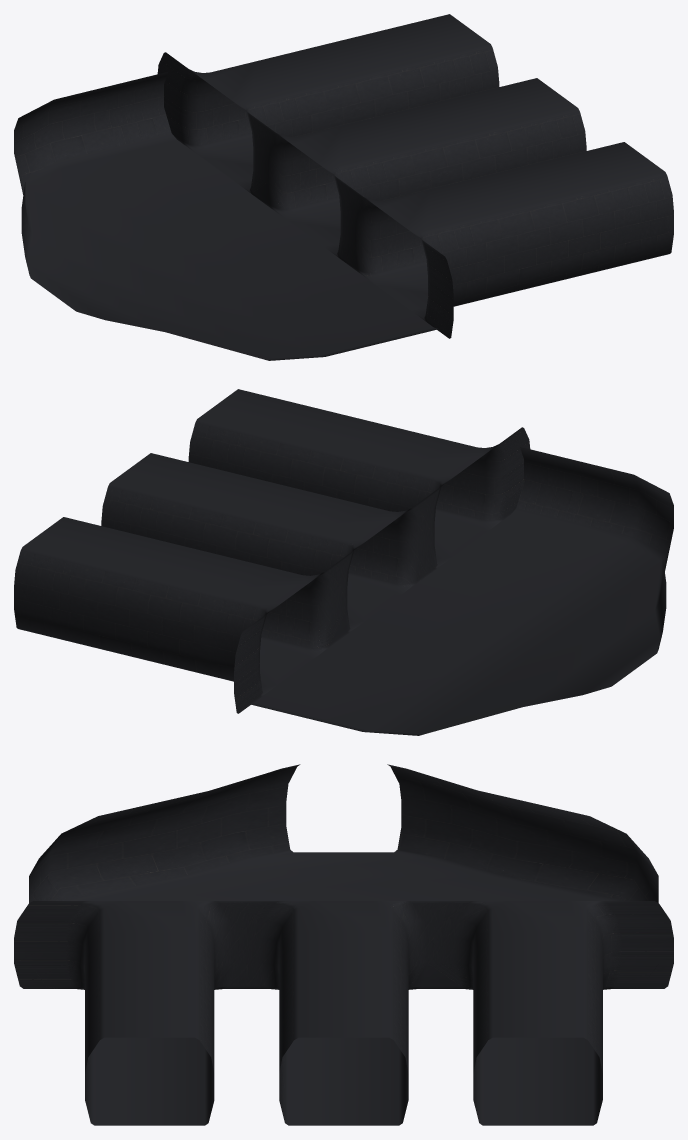
File: triple_corridor.fbx
The picture shows the model from 3 angles, top to bottom: view 1: azimuth 30°, elevation 25°; view 2: azimuth 150°, elevation 25°; view 3: azimuth 270°, elevation 25°; orthographic projection. The views are drawn at different scales.
Parts seen in each view (by area): view 1: triple_corridor; view 2: triple_corridor; view 3: triple_corridor.
Part boxes in pixels (<box>): triple_corridor: <box>14,14,673,360</box>; triple_corridor: <box>14,389,673,735</box>; triple_corridor: <box>14,764,673,1125</box>.
Bounding box in the file's own units: 2000 × 300 × 2039.
